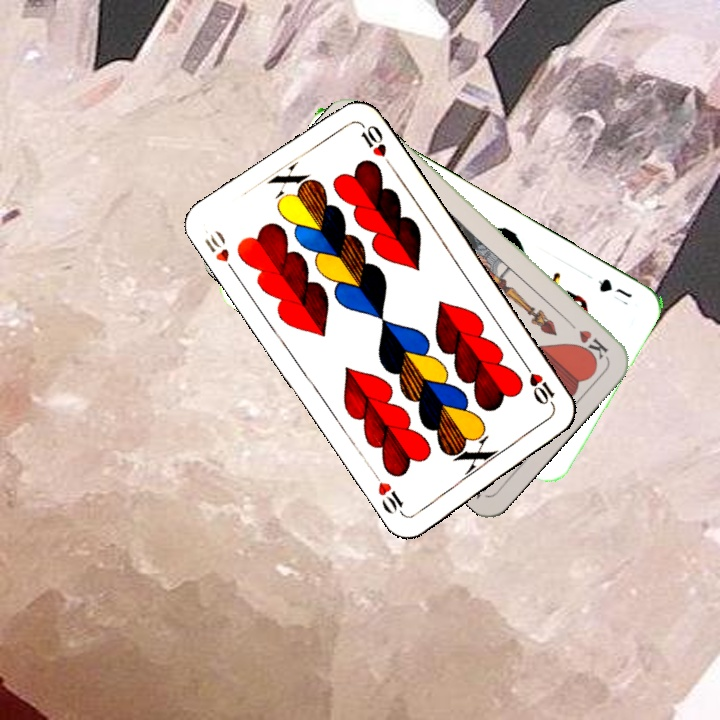GU: (593, 274, 635, 301)
H10: (200, 226, 240, 278), (520, 359, 558, 412)
HK: (561, 314, 612, 362)
